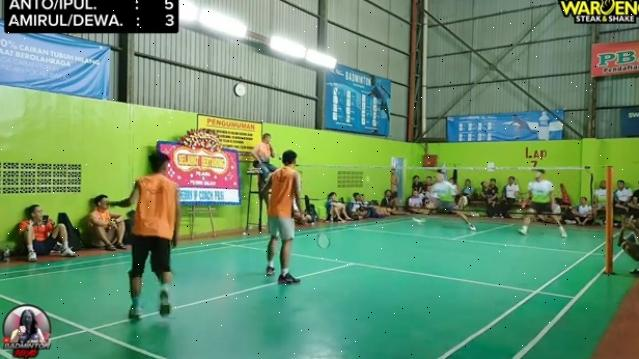Shuttlecock: (365, 172, 373, 186)
